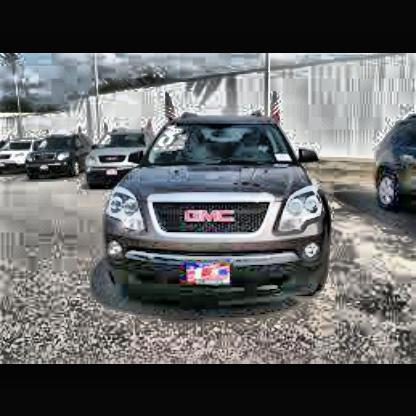GMC Acadia SUV 2012: (99, 115, 331, 309)
